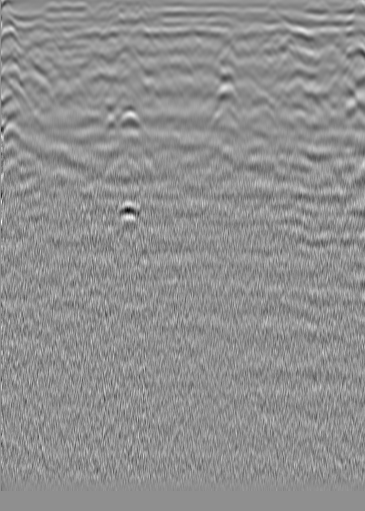가스: (106, 198, 149, 231)
상수: (41, 29, 61, 49)
오수: (304, 31, 324, 51)
우수: (181, 28, 201, 48)
